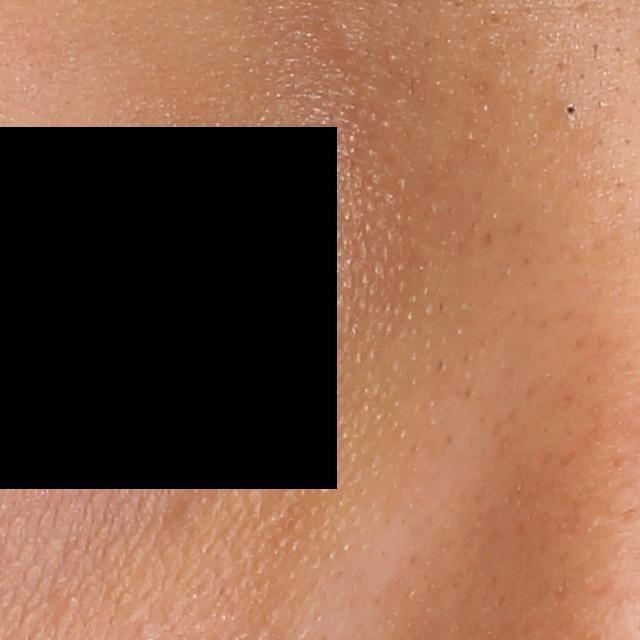comedo: (561, 100, 580, 122)
